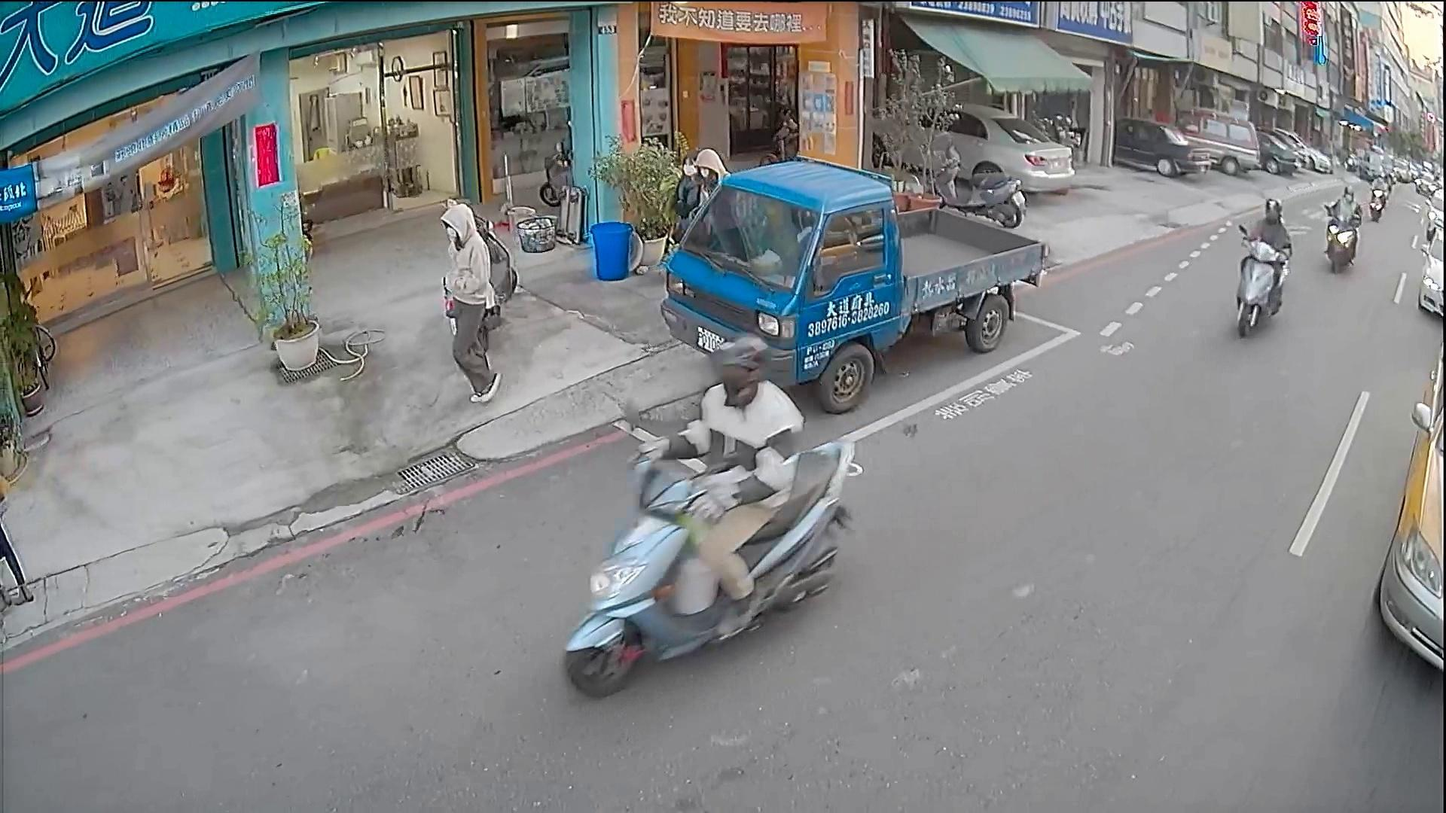person: (622, 334, 810, 644), (434, 196, 510, 403), (1232, 199, 1292, 314), (660, 155, 712, 253), (690, 145, 728, 208), (1323, 184, 1365, 231), (1367, 166, 1390, 191)
